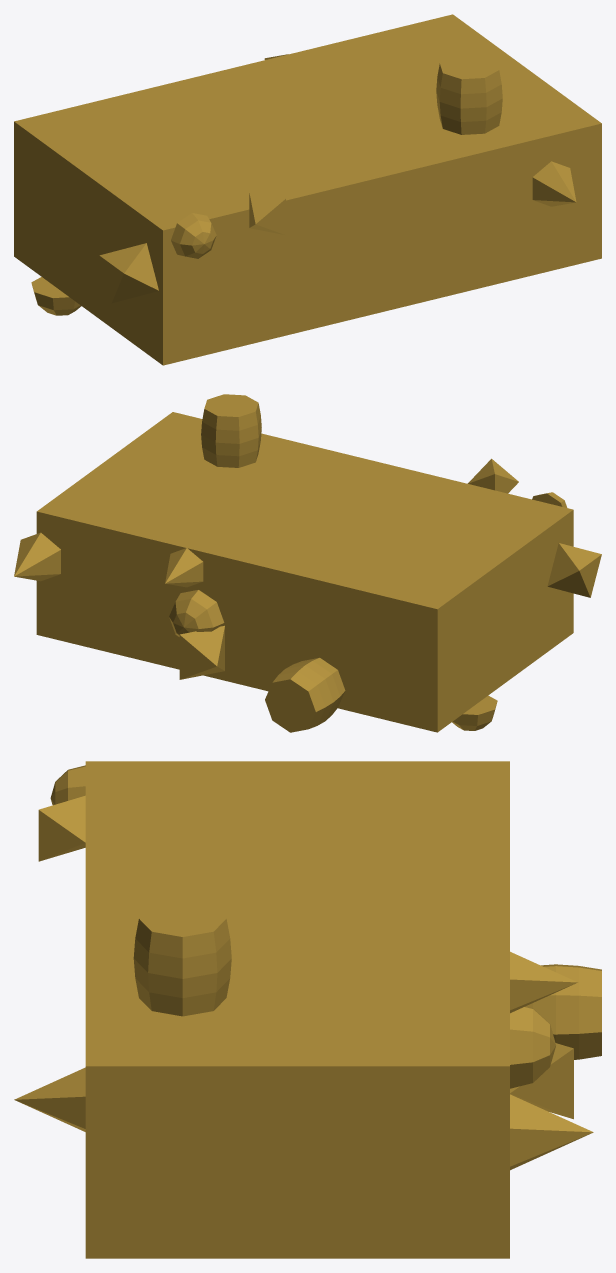
Rendered from object02_medium.glb.
3 views of the same model, one above another, from view 1: azimuth 30°, elevation 25°; view 2: azimuth 150°, elevation 25°; view 3: azimuth 270°, elevation 25° (orthographic). The views are drawn at different scales.
Parts seen in each view (by area): view 1: object02_medium; view 2: object02_medium; view 3: object02_medium.
Boxes of the visible parts, bbox=[...] form: object02_medium: bbox=[14, 14, 601, 365]; object02_medium: bbox=[14, 394, 601, 732]; object02_medium: bbox=[14, 761, 601, 1258].
Bounding box in the file's own units: 3.81 × 1.78 × 2.77.
